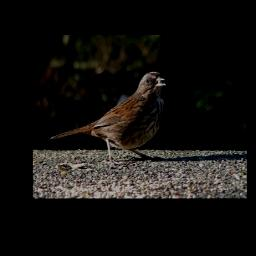Sparrow: (48, 68, 169, 166)
